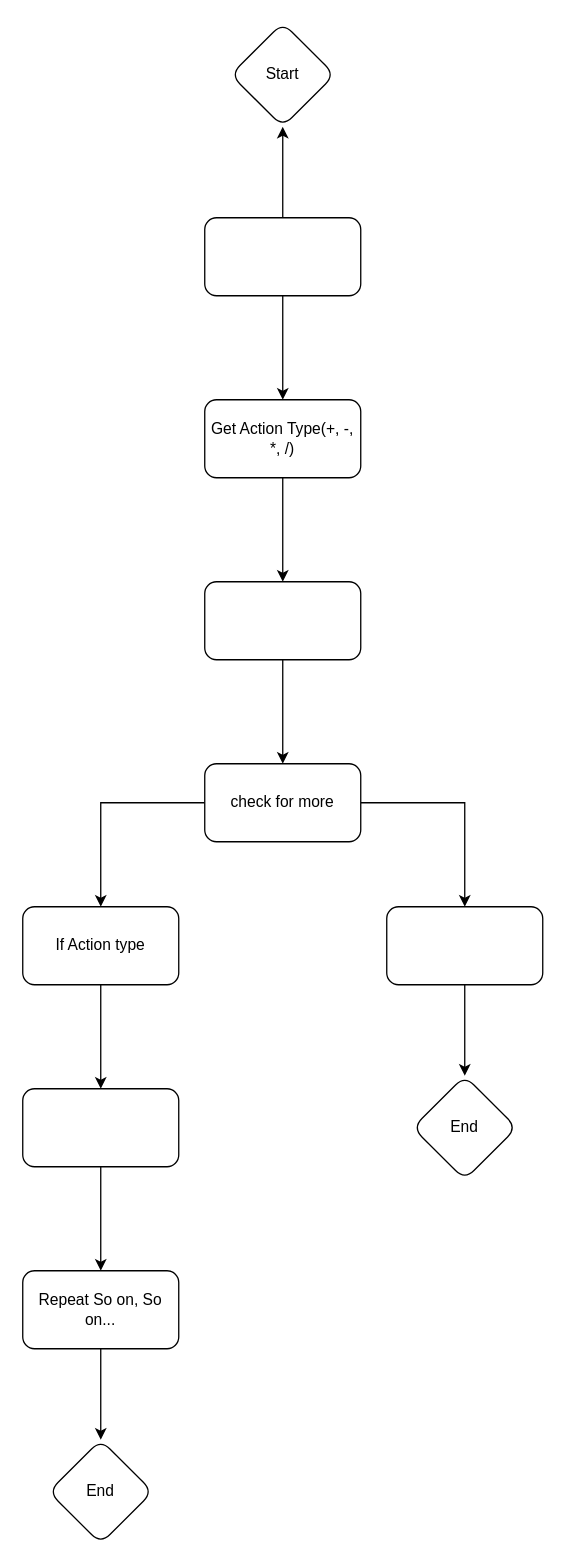
Some shapes in this 566 by 1567 pixel diagram are drawn without their labels. Here are the shapes that lost their labels. From the top down, the centre of each, then its label:
point (282, 256): Get Initial Number
point (282, 620): Get Next Number
point (464, 945): If Done
point (100, 1127): Request next number
